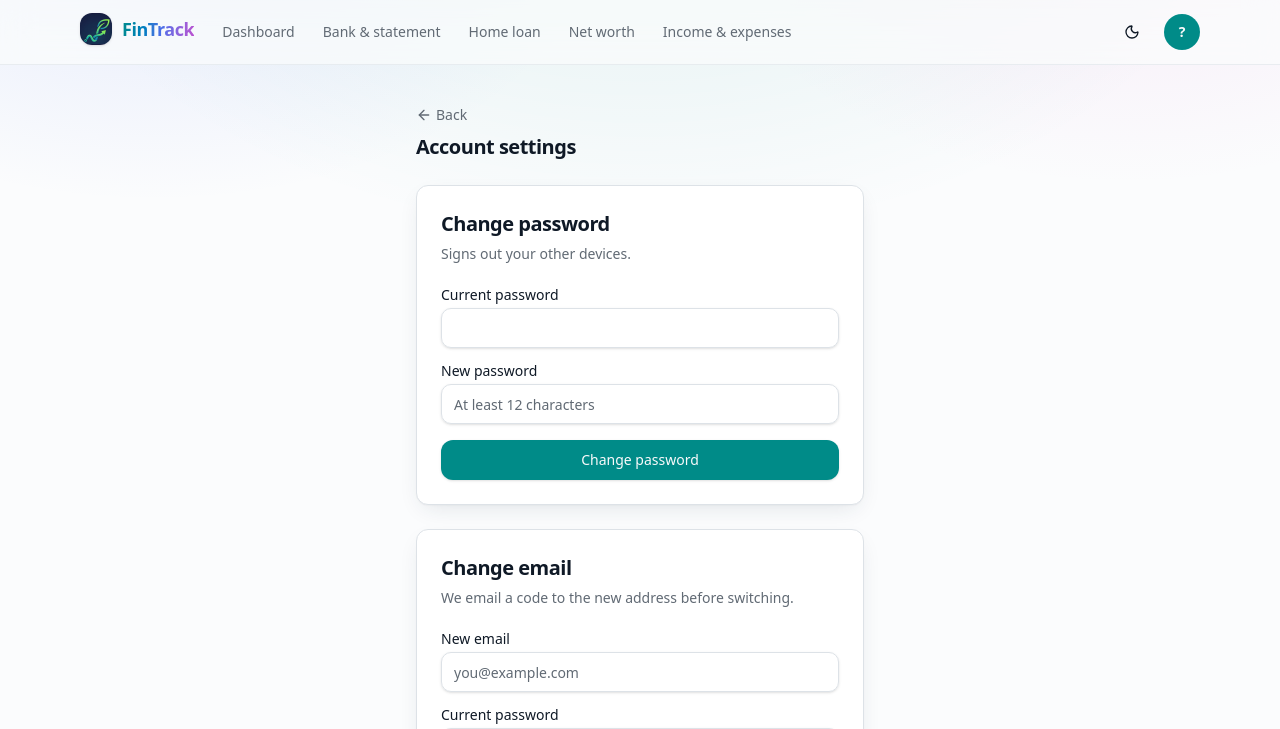
SettingsPage — change password › maps server field errors onto the inputs
Type "correct horse battery staple" into the password field labelled "Current password" below "Signs out your other devices." at (640, 328), box [441,308,839,348]
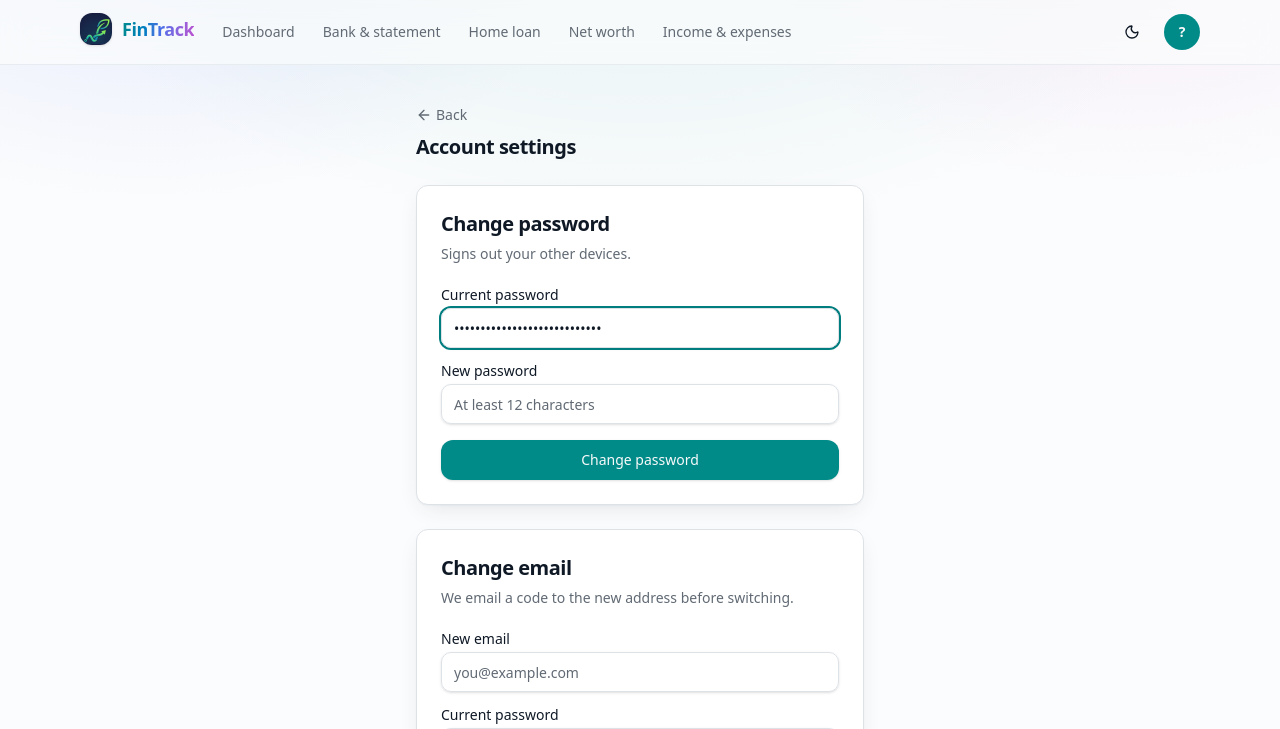
Type "aaaaaaaaaaaa" into the password field labelled "New password" at (640, 404), box [441,384,839,424]
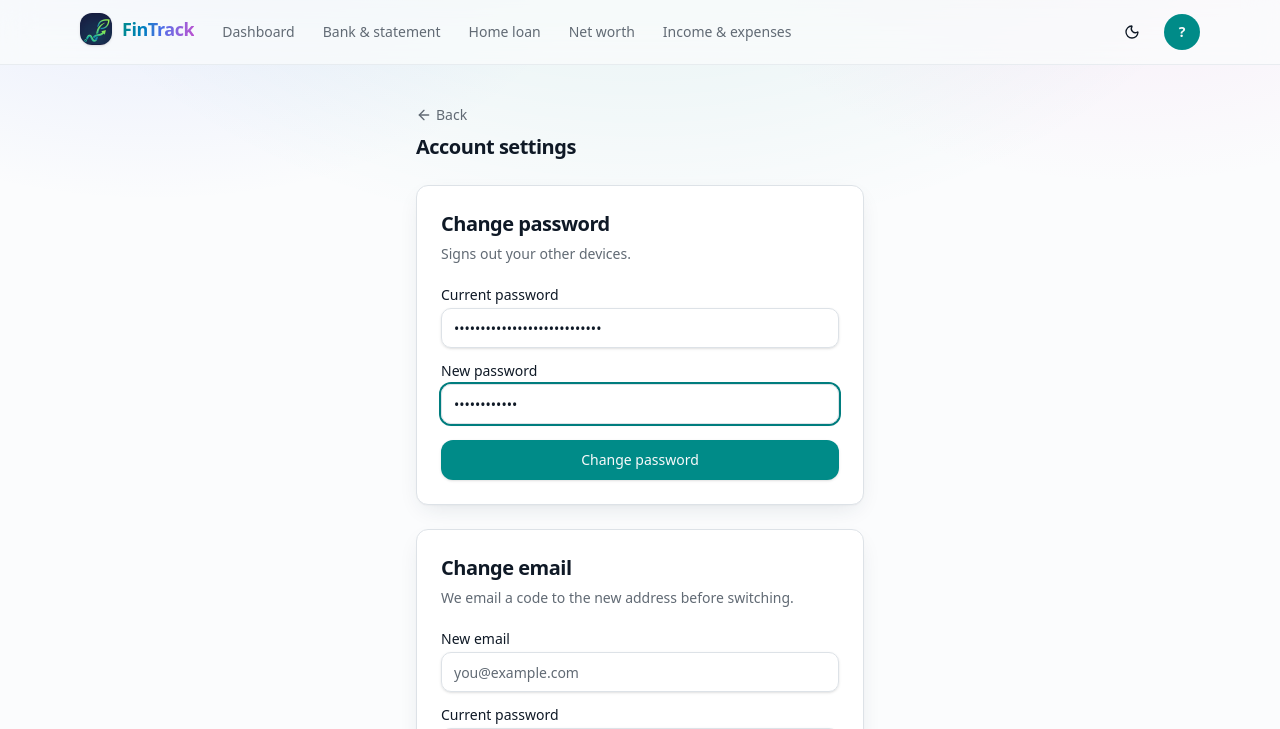
Click the button "Change password" at (640, 460), box [441,440,839,480]
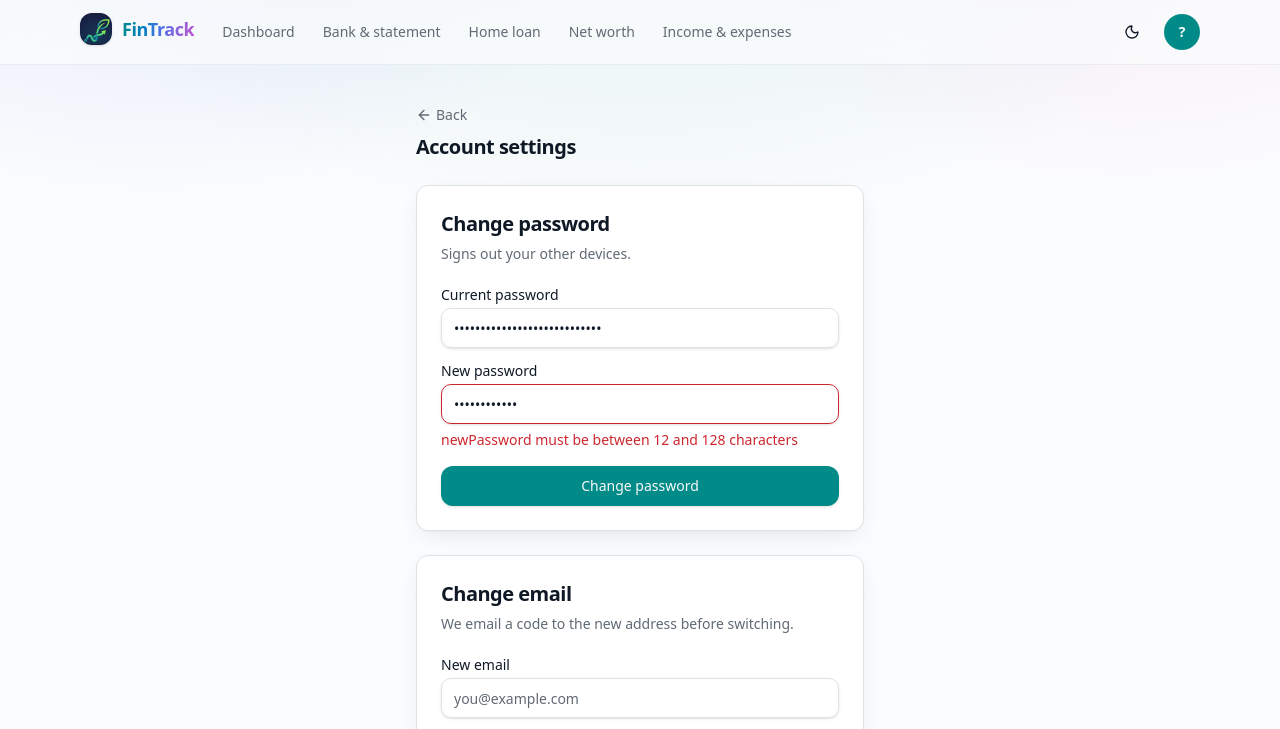
Expected: the text "newPassword must be between 12 and 128 characters" is shown, [441,430,839,450]
